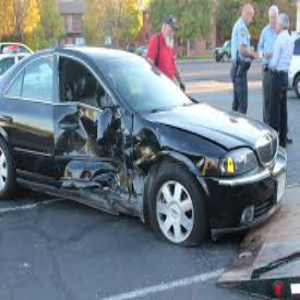door: (40, 123, 144, 200)
